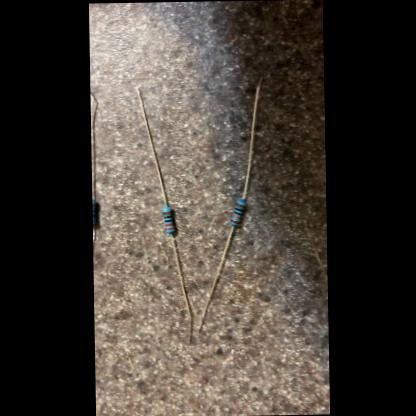resistor: (229, 198, 245, 224), (160, 206, 174, 233), (91, 198, 95, 224)
wire: (194, 224, 234, 332), (134, 87, 166, 205), (238, 75, 263, 197), (170, 234, 192, 343), (90, 92, 94, 198)
